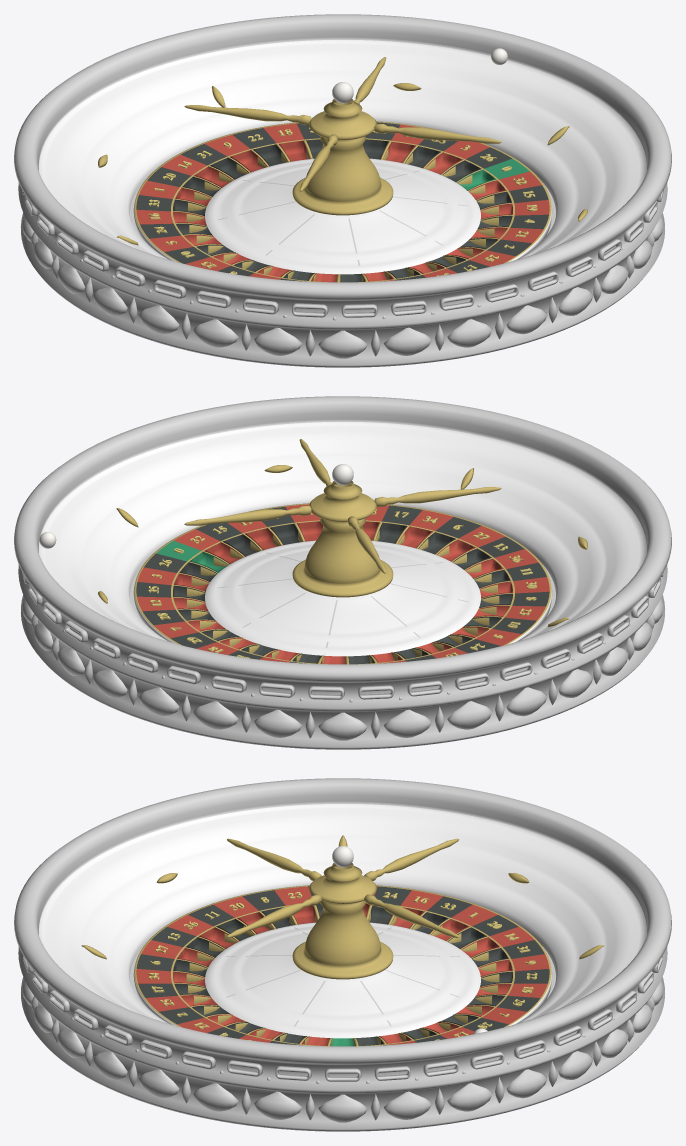
The model's file is roulette-wheel.glb.
The picture shows the model from 3 angles, top to bottom: view 1: azimuth 30°, elevation 25°; view 2: azimuth 150°, elevation 25°; view 3: azimuth 270°, elevation 25°; orthographic projection.
Visible parts, largest first — view 1: Bowl, Cone, NumberRing, Pockets, Turret, Frets, Numbers; view 2: Bowl, Cone, NumberRing, Pockets, Turret, Frets, Numbers; view 3: Bowl, Cone, NumberRing, Turret, Pockets, Frets, Numbers.
Boxes of the visible parts, <box> form: Bowl: <box>14,14,671,367</box>; Cone: <box>205,158,480,274</box>; NumberRing: <box>133,121,552,282</box>; Pockets: <box>173,139,512,282</box>; Turret: <box>184,57,501,215</box>; Frets: <box>173,140,512,282</box>; Numbers: <box>148,127,537,276</box>; Bowl: <box>14,396,671,749</box>; Cone: <box>205,540,480,656</box>; NumberRing: <box>133,503,552,664</box>; Pockets: <box>173,521,512,664</box>; Turret: <box>184,439,501,597</box>; Frets: <box>173,522,512,664</box>; Numbers: <box>148,509,537,658</box>; Bowl: <box>14,778,671,1131</box>; Cone: <box>205,922,480,1038</box>; NumberRing: <box>133,885,552,1046</box>; Turret: <box>227,838,458,979</box>; Pockets: <box>173,903,512,1046</box>; Frets: <box>173,905,512,1046</box>; Numbers: <box>148,892,537,1041</box>.
Size of the model in its own units: 0.82 by 0.215 by 0.82.
